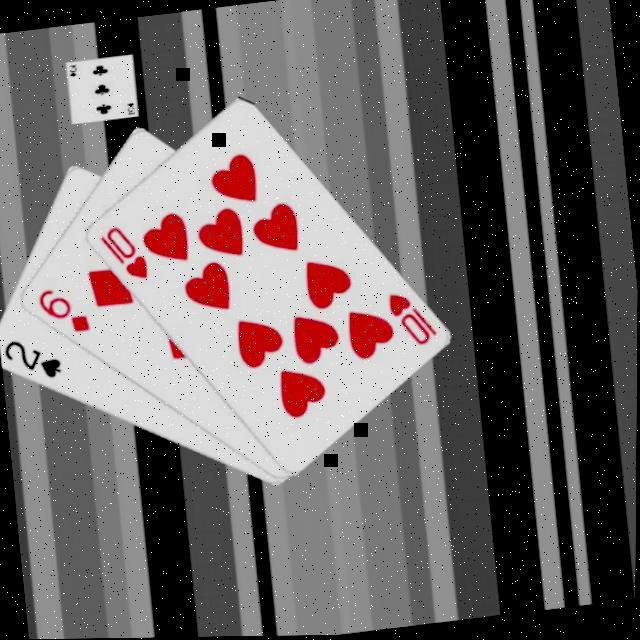10H: (92, 218, 150, 286), (381, 284, 438, 352)
2S: (0, 330, 63, 384)
6D: (30, 278, 91, 339)
